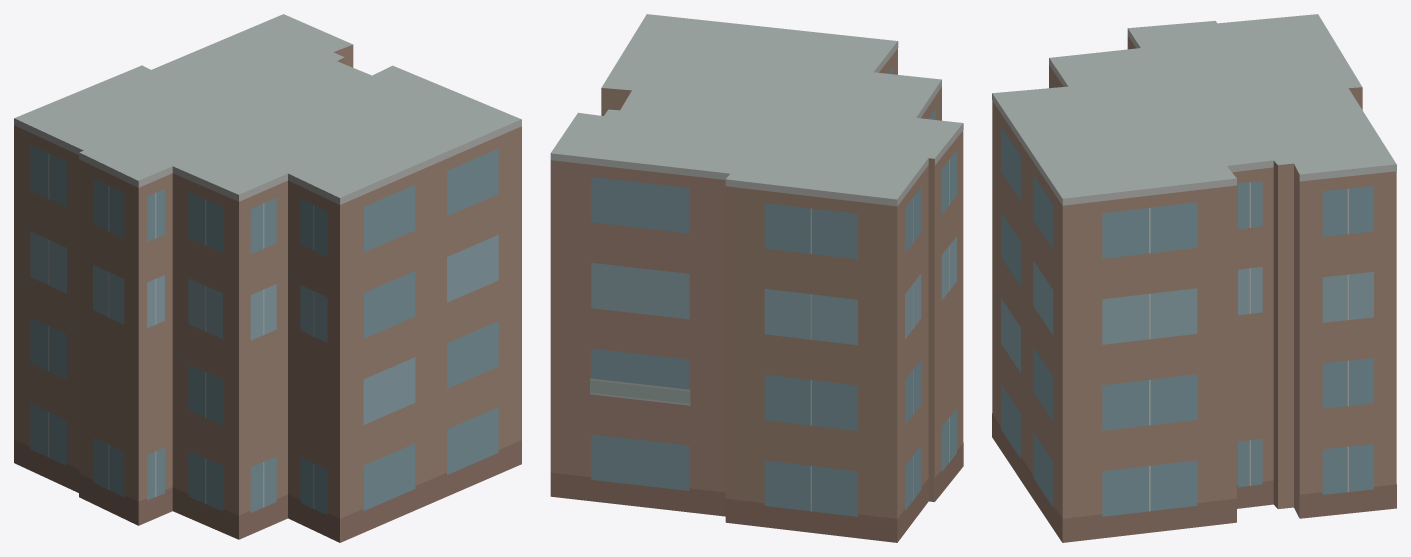
File: survey-upis-32460525.glb
3 renders of one model, left to right at view 1: azimuth 30°, elevation 25°; view 2: azimuth 150°, elevation 25°; view 3: azimuth 270°, elevation 25°, orthographic.
Visible parts, largest first — view 1: survey-upis-32460525.tmp; view 2: survey-upis-32460525.tmp; view 3: survey-upis-32460525.tmp.
Part boxes in pixels (bbox=[...]): survey-upis-32460525.tmp: bbox=[14, 14, 521, 542]; survey-upis-32460525.tmp: bbox=[550, 14, 963, 542]; survey-upis-32460525.tmp: bbox=[992, 14, 1396, 542].
Bounding box in the file's own units: 14.07 × 12.2 × 13.02.
